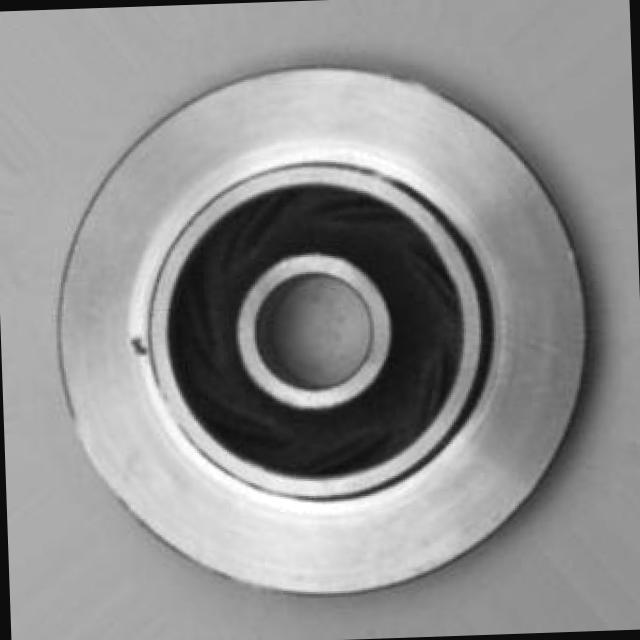Defect: (124, 332, 154, 359)
